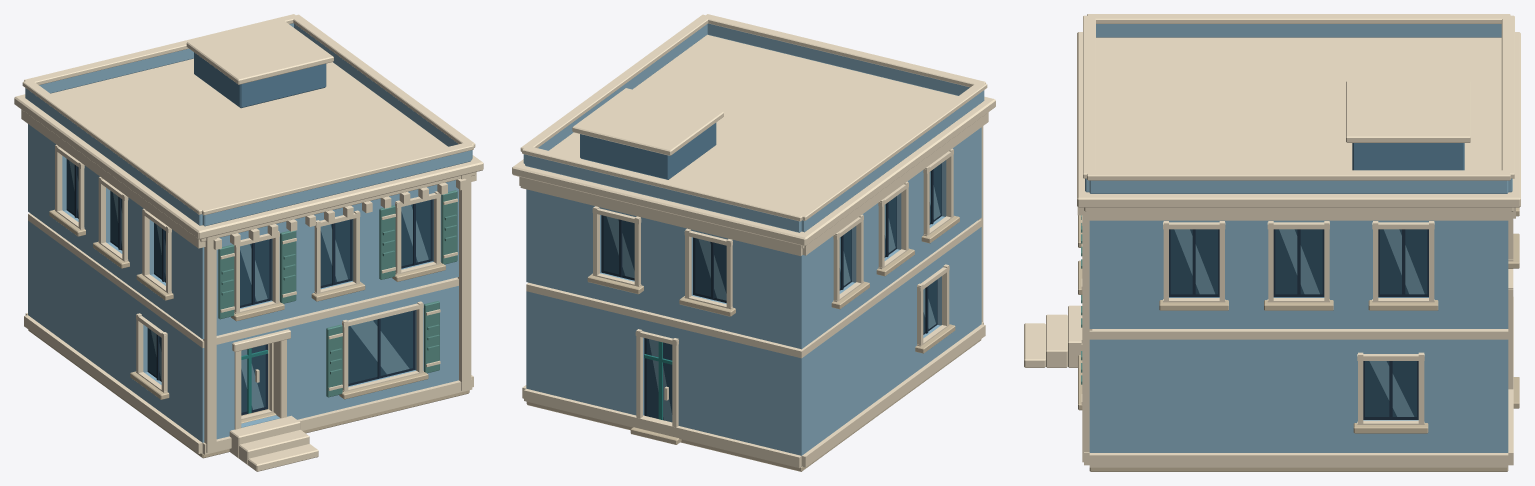
Rendered from step_entry_house.glb.
3 renders of one model, left to right at view 1: azimuth 30°, elevation 25°; view 2: azimuth 150°, elevation 25°; view 3: azimuth 270°, elevation 25°, orthographic. The views are drawn at different scales.
Parts seen in each view (by area): view 1: StepEntryHouse_StaticMesh; view 2: StepEntryHouse_StaticMesh; view 3: StepEntryHouse_StaticMesh.
Part boxes in pixels (x1=…): StepEntryHouse_StaticMesh: x1=14, y1=14, x2=483, y2=471; StepEntryHouse_StaticMesh: x1=512, y1=14, x2=995, y2=471; StepEntryHouse_StaticMesh: x1=1024, y1=14, x2=1520, y2=471.
Bounding box in the file's own units: 8.12 × 7.22 × 10.2.
